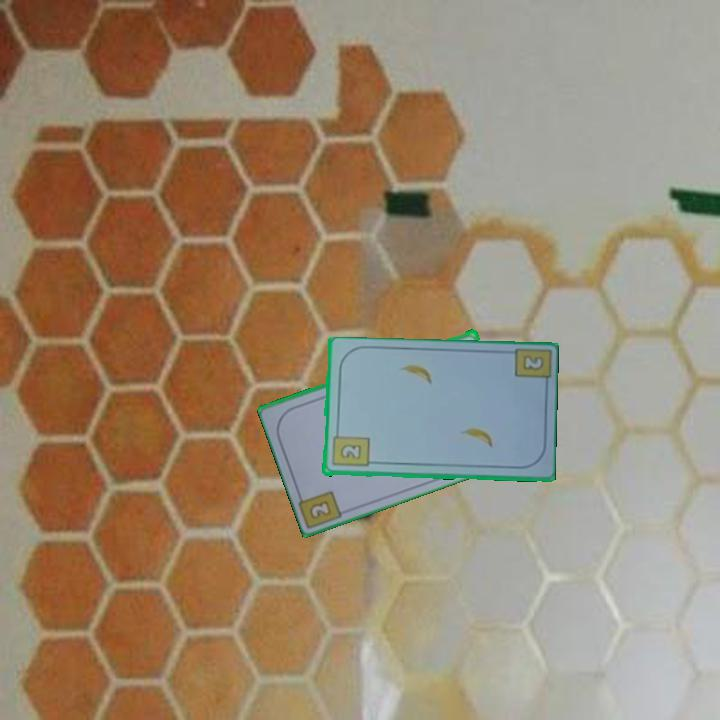2b: (329, 427, 371, 470), (306, 496, 334, 524), (521, 354, 544, 372)
